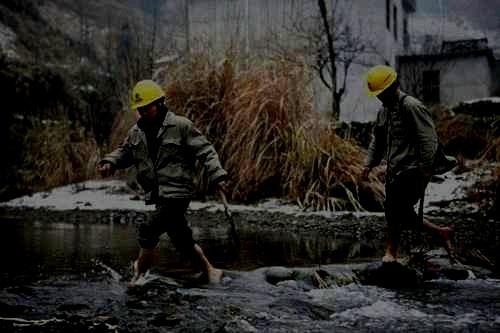helmet: (129, 79, 167, 122), (363, 64, 399, 104)
